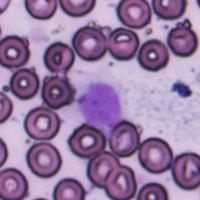L: (73, 79, 126, 129)
